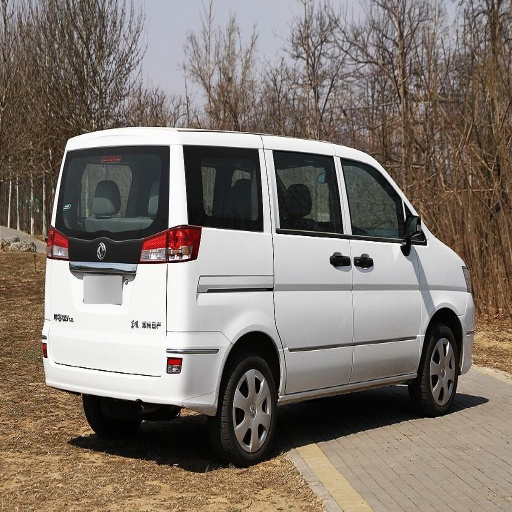back_bumper: (43, 321, 222, 411)
back_right_door: (266, 154, 351, 384), (223, 153, 256, 204)
tailgate: (55, 208, 140, 257)
trunk: (48, 224, 284, 373)
